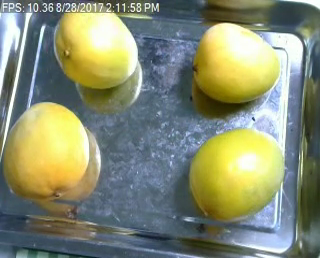Mango: (188, 130, 285, 218), (3, 100, 90, 197), (51, 2, 140, 89), (194, 22, 280, 103)
